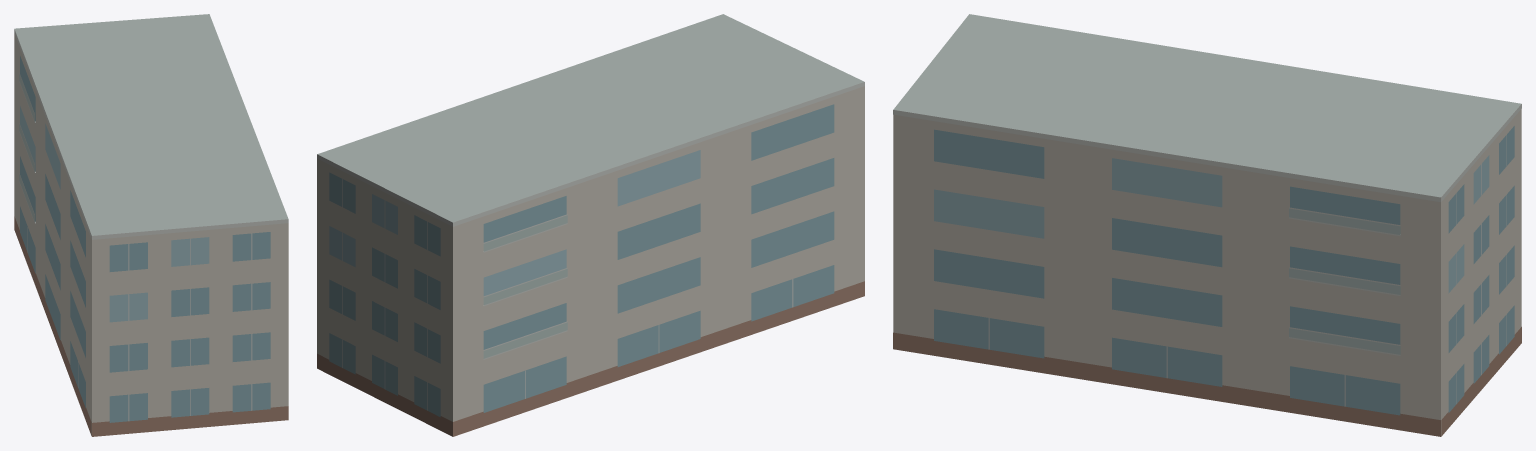
Rendered from survey-upis-32880065.glb.
The picture shows the model from 3 angles, left to right: view 1: azimuth 30°, elevation 25°; view 2: azimuth 150°, elevation 25°; view 3: azimuth 270°, elevation 25°; orthographic projection. The views are drawn at different scales.
Parts seen in each view (by area): view 1: survey-upis-32880065.tmp; view 2: survey-upis-32880065.tmp; view 3: survey-upis-32880065.tmp.
Boxes of the visible parts, bbox=[...] form: survey-upis-32880065.tmp: bbox=[14, 14, 288, 436]; survey-upis-32880065.tmp: bbox=[317, 14, 864, 436]; survey-upis-32880065.tmp: bbox=[893, 14, 1521, 436].
Size of the model in its own units: 20.23 by 12.3 by 29.28.
